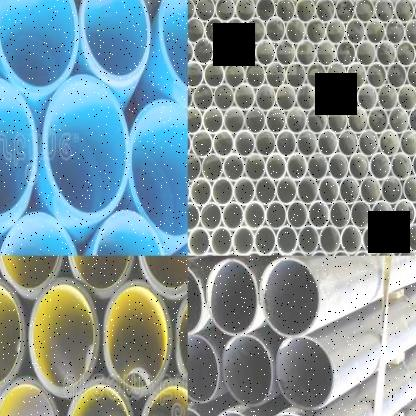pipe: (42, 75, 130, 220), (128, 98, 188, 244), (29, 279, 100, 397), (104, 281, 172, 395), (0, 0, 79, 93), (80, 0, 151, 83), (0, 76, 39, 221), (259, 257, 321, 338), (275, 337, 334, 410), (206, 260, 259, 336), (0, 212, 82, 256), (92, 210, 170, 256), (222, 336, 273, 406), (158, 0, 187, 99), (0, 277, 24, 394), (65, 376, 135, 416), (67, 256, 135, 296), (0, 256, 65, 297), (0, 377, 60, 416), (188, 335, 219, 404), (137, 256, 188, 296), (139, 379, 188, 416), (188, 265, 204, 336), (199, 202, 223, 232), (209, 226, 232, 256), (232, 226, 255, 256), (340, 225, 363, 255), (383, 224, 406, 254), (243, 201, 266, 231), (307, 200, 330, 230), (211, 177, 234, 207), (296, 176, 319, 206), (380, 175, 403, 205), (254, 225, 276, 256), (275, 225, 297, 256), (222, 201, 244, 232), (297, 226, 320, 255), (286, 201, 309, 230), (393, 199, 416, 228), (189, 178, 212, 207), (254, 177, 277, 206), (188, 226, 210, 256), (362, 225, 384, 255), (233, 177, 255, 207), (223, 153, 245, 183), (319, 226, 341, 255), (265, 201, 287, 230), (371, 200, 393, 229), (201, 154, 223, 183), (244, 153, 266, 182), (265, 153, 287, 182), (390, 152, 412, 181), (191, 130, 213, 159), (275, 129, 297, 158), (296, 129, 318, 158), (316, 129, 338, 158), (337, 129, 359, 158), (244, 106, 266, 135), (202, 106, 224, 135), (367, 106, 389, 135), (387, 106, 409, 135), (329, 200, 350, 230), (350, 200, 371, 230), (318, 176, 339, 206), (339, 176, 360, 206), (234, 129, 255, 159), (286, 153, 308, 181), (348, 153, 370, 181), (369, 153, 391, 181), (265, 107, 287, 135), (192, 84, 214, 112), (336, 84, 358, 112), (285, 62, 307, 90), (203, 61, 225, 89), (276, 177, 297, 206), (213, 130, 234, 159), (255, 129, 276, 158), (358, 129, 379, 158), (224, 106, 245, 135), (327, 106, 348, 135), (255, 84, 276, 113), (296, 84, 317, 113), (275, 84, 296, 113), (316, 84, 337, 113), (378, 130, 400, 157), (244, 62, 266, 89), (213, 39, 235, 66), (360, 177, 381, 205), (307, 153, 328, 181), (328, 153, 349, 181), (286, 107, 307, 135), (306, 107, 327, 135), (347, 106, 368, 134), (213, 84, 234, 112), (377, 84, 398, 112), (357, 84, 378, 112), (234, 84, 255, 112), (366, 62, 387, 90), (265, 62, 286, 90), (224, 61, 245, 89), (315, 40, 336, 68), (365, 18, 386, 46), (346, 62, 367, 89), (326, 62, 347, 89), (395, 41, 416, 68), (375, 41, 396, 68), (275, 40, 296, 67), (255, 40, 276, 67), (193, 39, 214, 66), (384, 19, 405, 46), (225, 18, 246, 45), (396, 84, 416, 112), (306, 62, 326, 90), (356, 40, 376, 68), (336, 40, 356, 68), (296, 40, 316, 68), (345, 18, 365, 46), (325, 19, 346, 45), (305, 19, 326, 45), (204, 18, 225, 44), (265, 18, 286, 44), (235, 40, 255, 67), (245, 18, 265, 45), (386, 63, 406, 89), (286, 19, 306, 45), (393, 0, 414, 23), (274, 0, 295, 23), (194, 0, 215, 23), (334, 0, 354, 24), (354, 0, 374, 24), (214, 0, 235, 22), (254, 0, 275, 22), (314, 0, 334, 23), (295, 0, 315, 23), (235, 0, 255, 23), (399, 130, 416, 157), (374, 0, 393, 24), (188, 106, 203, 135), (188, 17, 204, 44), (188, 153, 202, 183), (188, 61, 203, 89), (402, 175, 416, 204), (188, 202, 200, 232), (405, 223, 416, 253), (405, 19, 416, 46), (406, 62, 416, 89), (408, 106, 416, 134), (374, 248, 397, 256), (188, 0, 195, 23), (395, 248, 416, 255), (411, 151, 416, 180), (188, 84, 192, 113), (188, 39, 192, 66), (413, 0, 416, 24), (414, 199, 416, 227), (415, 42, 416, 68)
